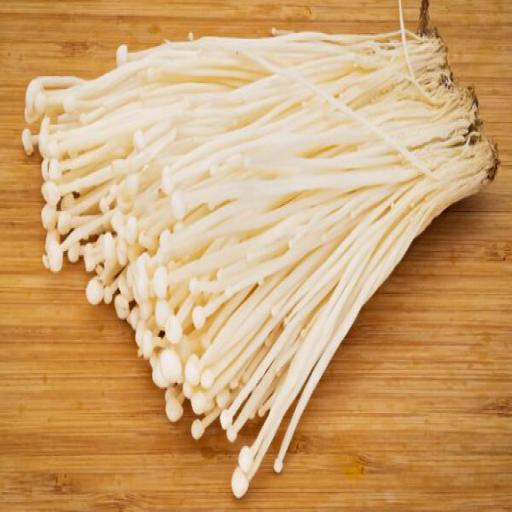Enoki Mushroom: (15, 18, 502, 497)
